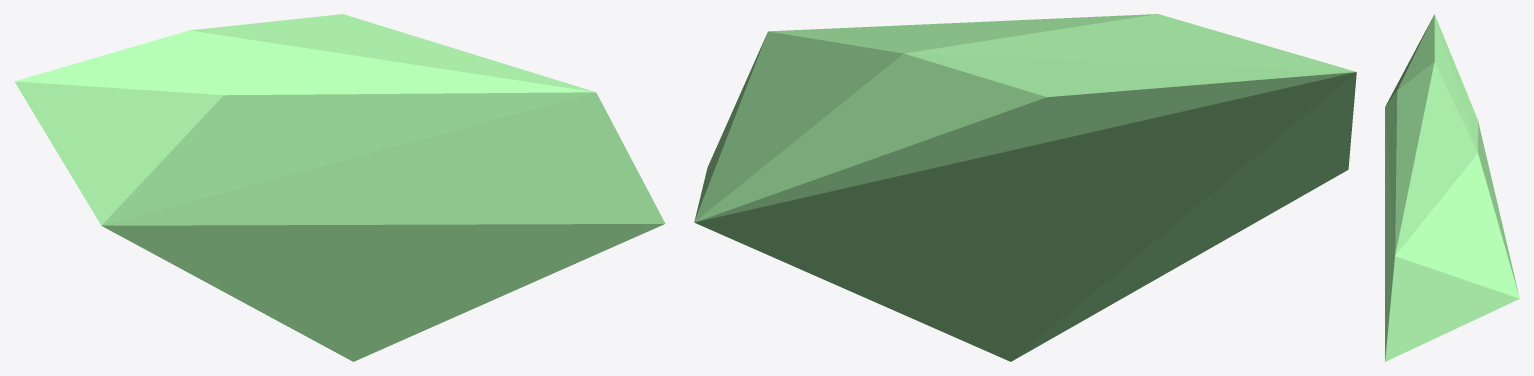
File: UMIRobot_UMIRobot_link_2_convex_coll_2.dae
The picture shows the model from 3 angles, left to right: view 1: azimuth 30°, elevation 25°; view 2: azimuth 150°, elevation 25°; view 3: azimuth 270°, elevation 25°; orthographic projection. The views are drawn at different scales.
Parts seen in each view (by area): view 1: node; view 2: node; view 3: node.
Boxes of the visible parts, x1,y1,x2,y2 form: node: (14,14,665,361); node: (694,14,1356,361); node: (1385,14,1519,361).
Size of the model in its own units: 0.0168 by 0.00933 by 0.00517.
